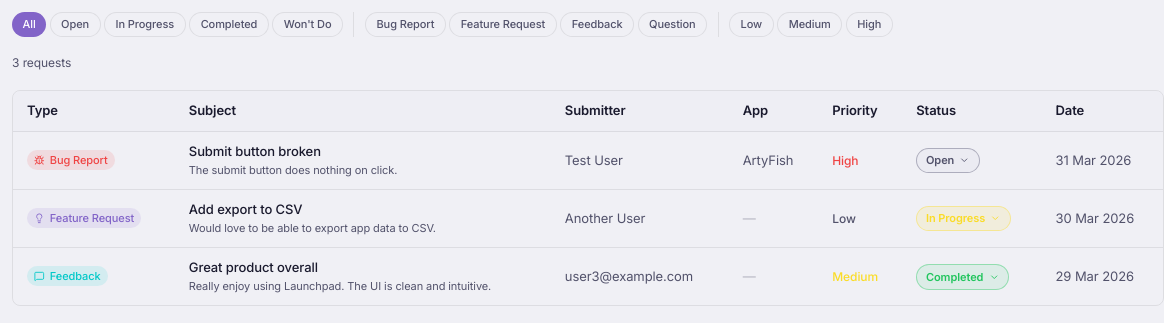
SupportAdminClient › Filtering › filters by status — open only
Click the button with test id "filter-status-open" at (75, 24), box x1=50 y1=12 x2=101 y2=36
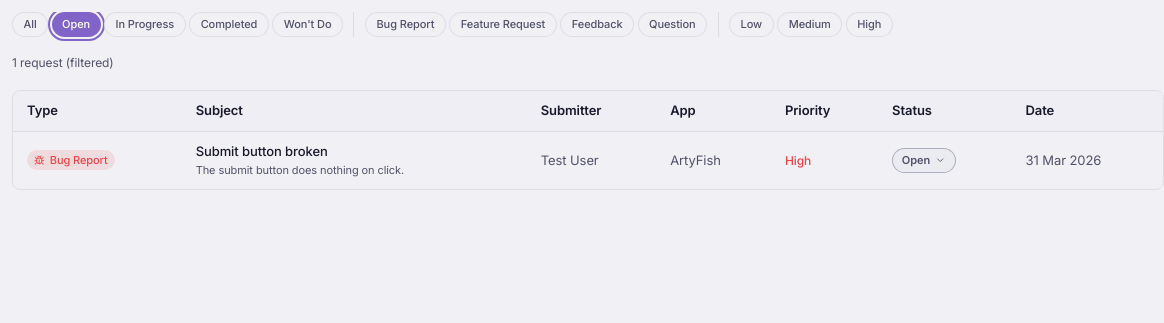
Expected: the text "Submit button broken" is shown, x1=196 y1=142 x2=328 y2=158
Expected: the text "Add export to CSV" is gone
Expected: the text "Great product overall" is gone
